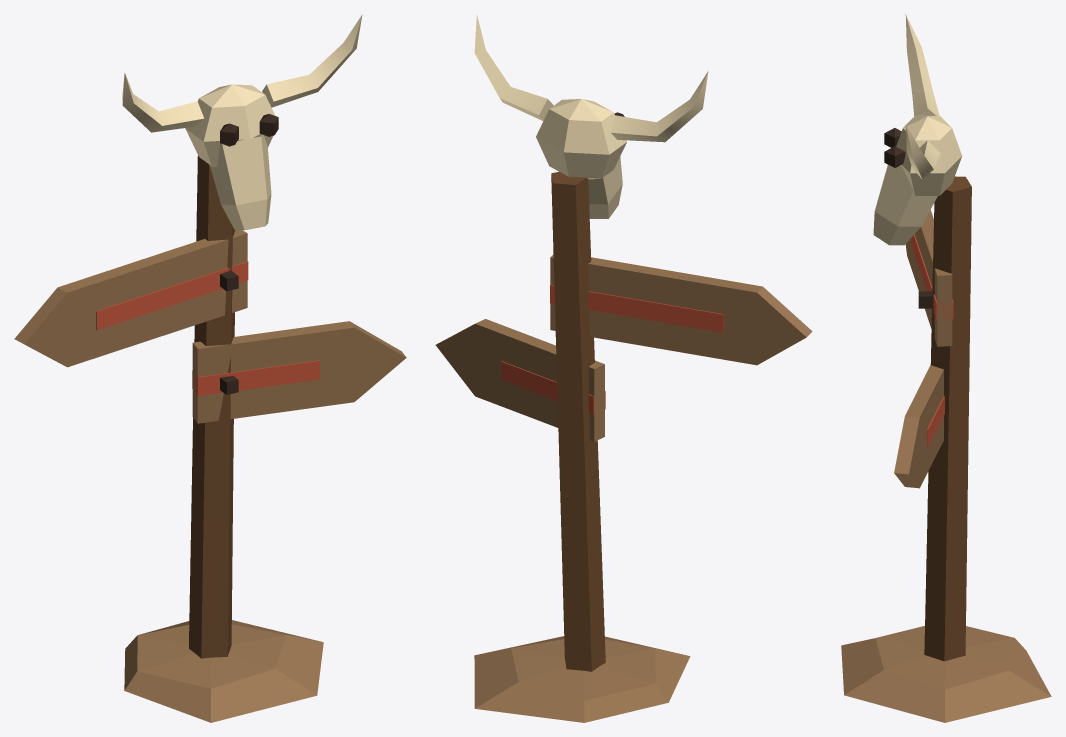
Rendered from cow_skull_sign.glb.
The picture shows the model from 3 angles, left to right: view 1: azimuth 30°, elevation 25°; view 2: azimuth 150°, elevation 25°; view 3: azimuth 270°, elevation 25°; orthographic projection. The views are drawn at different scales.
Parts seen in each view (by area): view 1: cow_skull_sign; view 2: cow_skull_sign; view 3: cow_skull_sign.
Boxes of the visible parts, x1,y1,x2,y2 form: cow_skull_sign: (14,14,406,722); cow_skull_sign: (435,15,812,722); cow_skull_sign: (841,14,1051,722).
Bounding box in the file's own units: 0.9696 × 1.54 × 0.4839.
